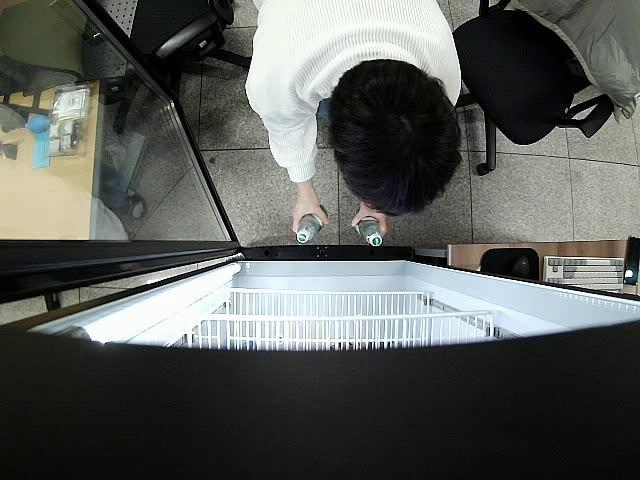18_trevi: (298, 204, 328, 245), (357, 217, 383, 247)
